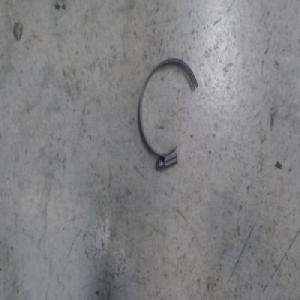AdjustableClamp: (137, 56, 200, 173)
